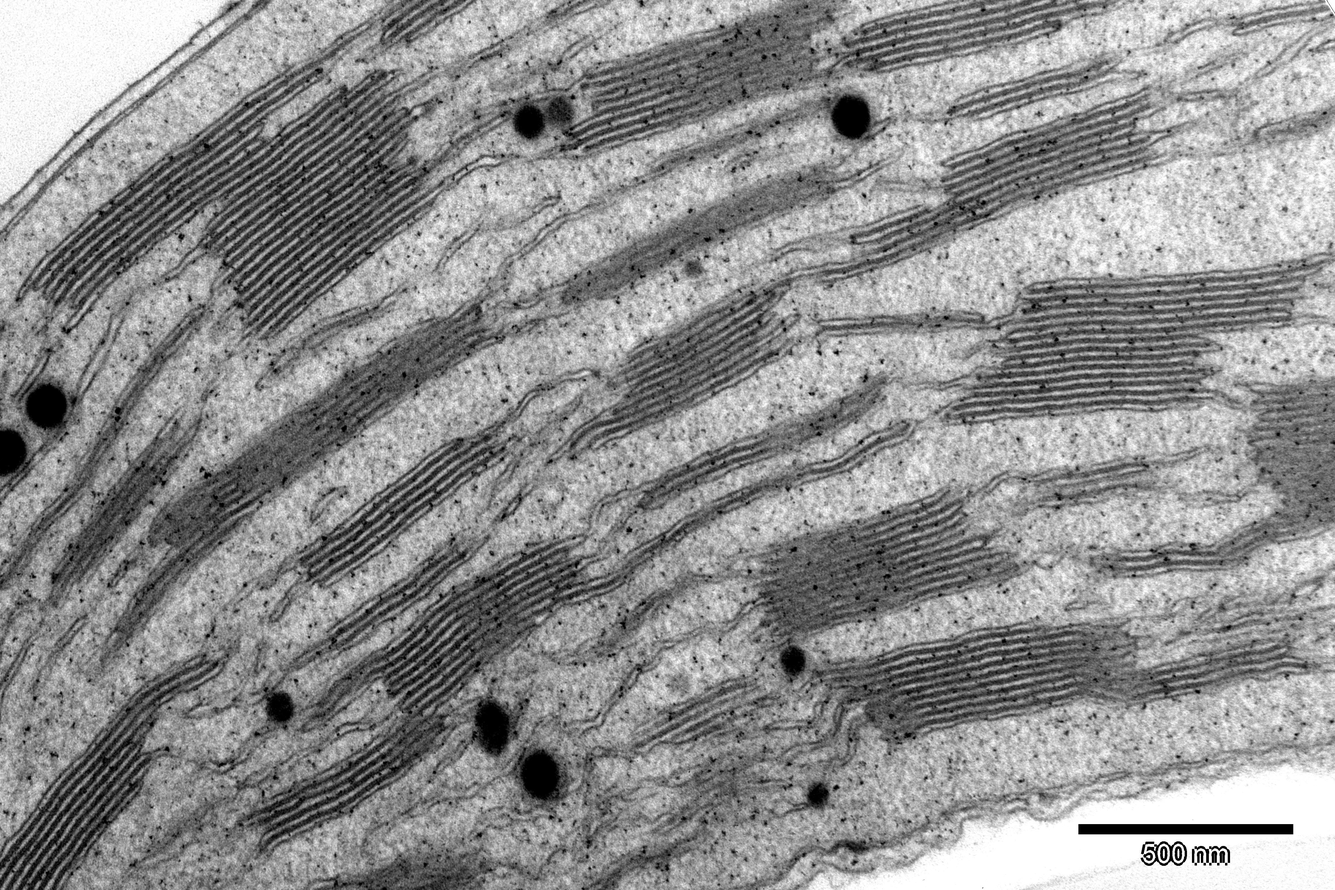granum: (106, 270, 523, 650), (17, 48, 441, 348), (243, 532, 598, 855), (811, 614, 1295, 758), (942, 253, 1309, 425), (0, 649, 229, 890), (1082, 374, 1335, 581), (561, 0, 858, 164), (743, 479, 1024, 645), (556, 154, 846, 310), (563, 273, 803, 453), (285, 422, 516, 596), (630, 369, 890, 514), (937, 81, 1165, 231), (295, 522, 495, 668), (50, 412, 206, 595), (836, 0, 1149, 77), (623, 670, 787, 762), (950, 49, 1121, 125), (298, 836, 496, 890), (845, 200, 970, 281), (662, 743, 764, 829), (1031, 448, 1167, 512), (367, 0, 481, 47), (611, 537, 662, 585)
